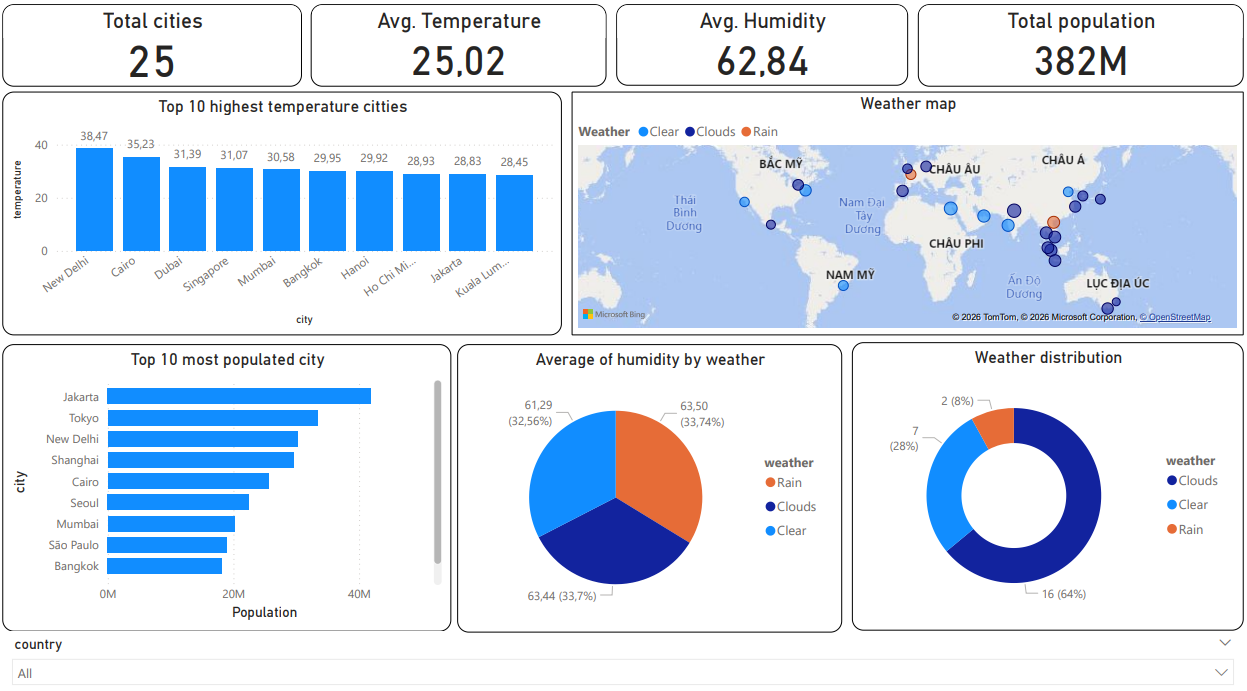

What the dashboard file says about the page in this screenshot:
{"tool":"powerbi","page":{"name":"Page 1","canvas":[1280,720],"ordinal":0},"visuals":[{"type":"clusteredBarChart","title":"Top 10 most populated city","fields":{"Category":["weather_population.city"],"Y":["Sum(weather_population.population)"]},"box":[0,356.2,462.7,296.2],"z":0},{"type":"map","title":"Weather map","fields":{"Category":["weather_population.city"],"Series":["weather_population.weather"],"Size":["Sum(weather_population.temperature)"]},"box":[587.1,95.7,692.9,251.4],"z":1000},{"type":"clusteredColumnChart","title":"Top 10 highest temperature citties","fields":{"Y":["Sum(weather_population.temperature)"],"Category":["weather_population.city"]},"box":[0,95.5,577.4,251.1],"z":2000},{"type":"donutChart","title":"Weather distribution","fields":{"Category":["weather_population.weather"],"Y":["CountNonNull(weather_population.city)"]},"box":[875.7,354.3,404.3,297.1],"z":3000},{"type":"slicer","fields":{"Values":["weather_population.country"]},"box":[0,652.4,1280.3,68.2],"z":4000},{"type":"pieChart","fields":{"Y":["Avg(weather_population.humidity)"],"Category":["weather_population.weather"]},"box":[468.8,356.2,397.5,296.2],"z":5000},{"type":"card","title":"Avg. Temperature","fields":{"Values":["Avg(weather_population.temperature)"]},"box":[317.8,5.6,305.6,85.6],"z":6000},{"type":"card","title":"Avg. Humidity","fields":{"Values":["Avg(weather_population.humidity)"]},"box":[632.5,6.2,301.2,83.8],"z":7000},{"type":"card","title":"Total population","fields":{"Values":["Sum(weather_population.population)"]},"box":[943.8,6.2,336.2,85],"z":8000},{"type":"card","title":"Total cities","fields":{"Values":["weather_population.Total cities"]},"box":[0,5.7,308.6,85.7],"z":9000}]}

Visuals, with their boxes in screenshot pixels (x1, y1, x2, y2), scaled from the page's 1280x720 canvas onto the 1247x691 screenshot:
"Top 10 most populated city" clusteredBarChart: bbox=[0, 342, 451, 626]
"Weather map" map: bbox=[572, 92, 1246, 333]
"Top 10 highest temperature citties" clusteredColumnChart: bbox=[0, 92, 563, 333]
"Weather distribution" donutChart: bbox=[853, 340, 1246, 625]
slicer - weather_population.country: bbox=[0, 626, 1246, 690]
pieChart - Avg(weather_population.humidity) x weather_population.weather: bbox=[457, 342, 844, 626]
"Avg. Temperature" card: bbox=[310, 5, 607, 88]
"Avg. Humidity" card: bbox=[616, 6, 910, 86]
"Total population" card: bbox=[919, 6, 1246, 88]
"Total cities" card: bbox=[0, 5, 301, 88]
